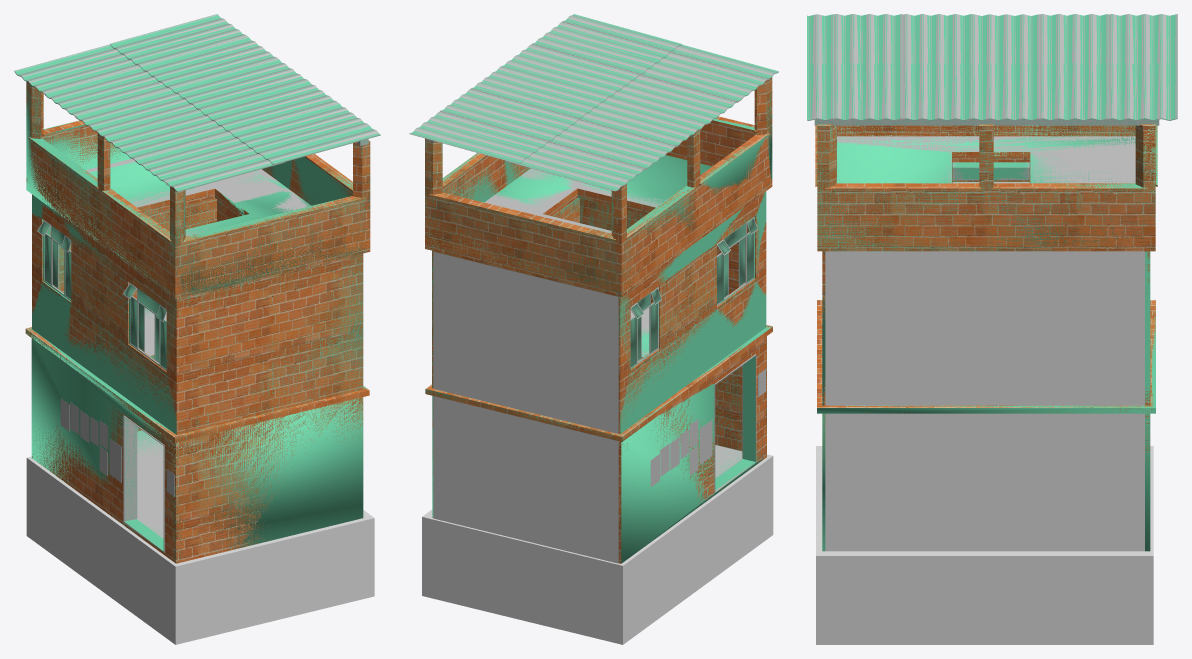
Rendered from CASA 33.fbx.
The picture shows the model from 3 angles, left to right: view 1: azimuth 30°, elevation 25°; view 2: azimuth 150°, elevation 25°; view 3: azimuth 270°, elevation 25°; orthographic projection. The views are drawn at different scales.
Visible parts, largest first — view 1: CASA33_LOD0, UTM_CASA33, Cube_LOD0; view 2: CASA33_LOD0, UTM_CASA33, OCC_Oclusion1, Cube_LOD0; view 3: OCC_Oclusion2, CASA33_LOD0, UTM_CASA33, Cube_LOD0.
Part boxes in pixels (x1=…): CASA33_LOD0: x1=14, y1=14, x2=380, y2=563; UTM_CASA33: x1=14, y1=14, x2=380, y2=563; Cube_LOD0: x1=26, y1=456, x2=374, y2=644; CASA33_LOD0: x1=409, y1=14, x2=778, y2=563; UTM_CASA33: x1=410, y1=14, x2=778, y2=563; OCC_Oclusion1: x1=433, y1=252, x2=618, y2=563; Cube_LOD0: x1=422, y1=454, x2=773, y2=644; OCC_Oclusion2: x1=825, y1=251, x2=1144, y2=551; CASA33_LOD0: x1=807, y1=14, x2=1177, y2=467; UTM_CASA33: x1=807, y1=14, x2=1176, y2=551; Cube_LOD0: x1=816, y1=446, x2=1153, y2=644.
Size of what is drawn, in the model's own units: 544 by 1188 by 756.
